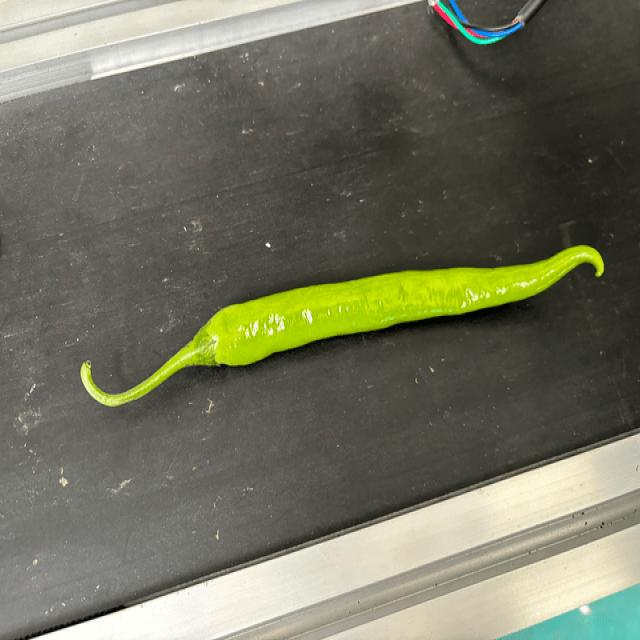chili: (190, 241, 607, 369)
